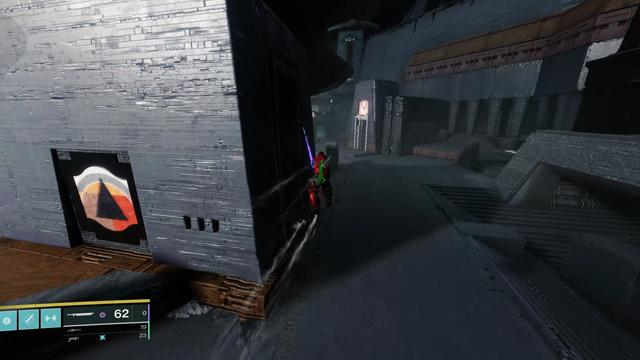pyramid: (73, 166, 138, 231)
